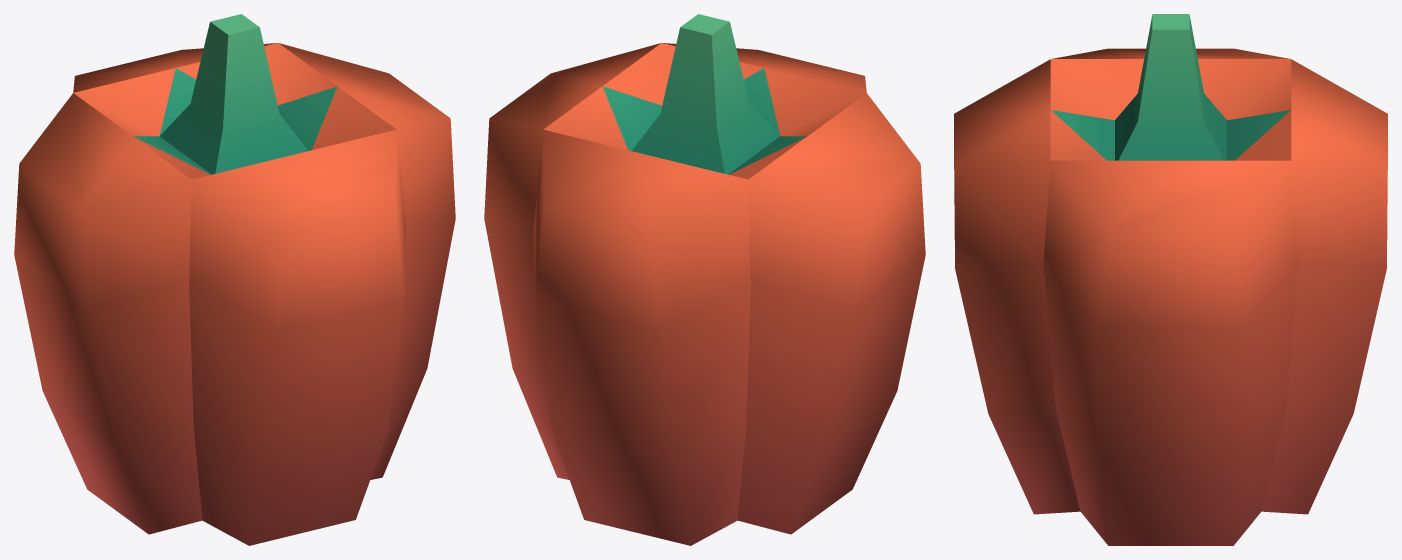
File: kenney-food-paprika.glb
3 renders of one model, left to right at view 1: azimuth 30°, elevation 25°; view 2: azimuth 150°, elevation 25°; view 3: azimuth 270°, elevation 25°, orthographic.
Parts seen in each view (by area): view 1: paprika; view 2: paprika; view 3: paprika.
Part boxes in pixels (x1=…): paprika: x1=14, y1=14, x2=455, y2=545; paprika: x1=484, y1=14, x2=925, y2=545; paprika: x1=954, y1=14, x2=1387, y2=545.
Size of the model in its own units: 0.1681 by 0.1993 by 0.1681.
Materials: 1 (1 with a texture image).
